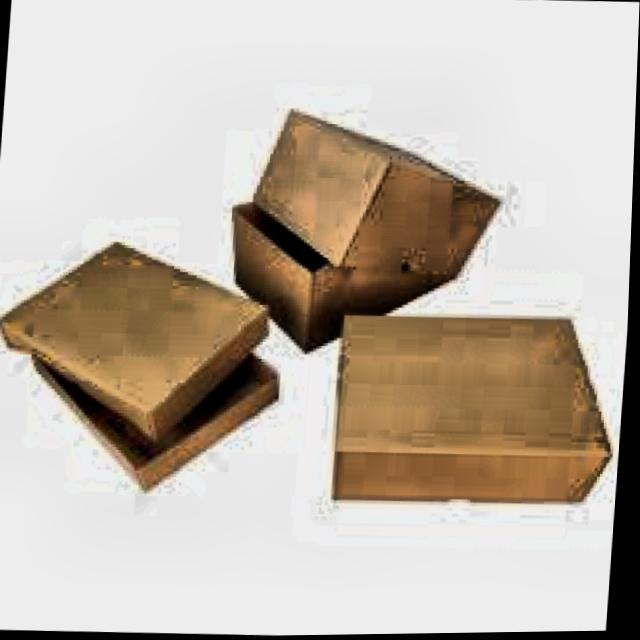Cardbox: (0, 228, 297, 514), (199, 84, 513, 352), (296, 277, 632, 513)
